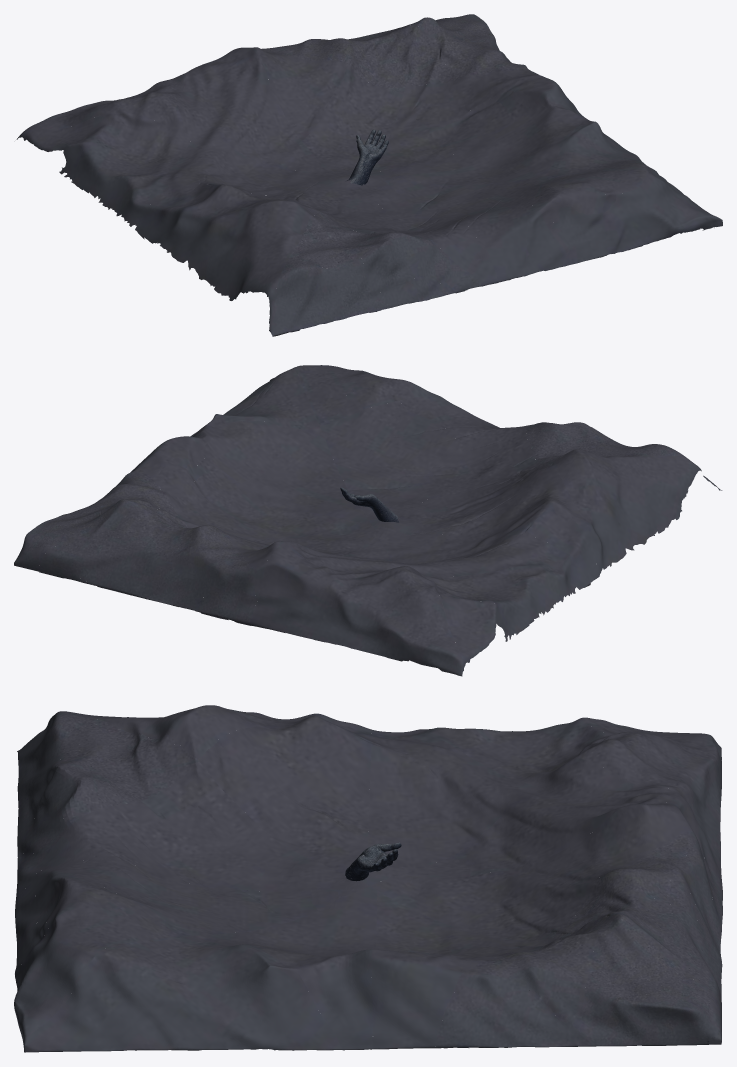
3 renders of one model, top to bottom at view 1: azimuth 30°, elevation 25°; view 2: azimuth 150°, elevation 25°; view 3: azimuth 270°, elevation 25°, orthographic. The views are drawn at different scales.
Parts seen in each view (by area): view 1: desert, hand; view 2: desert, hand; view 3: desert, hand.
Boxes of the visible parts, <box> form: desert: <box>16,14,722,336</box>; hand: <box>347,129,388,185</box>; desert: <box>14,365,722,676</box>; hand: <box>340,487,399,522</box>; desert: <box>14,705,722,1052</box>; hand: <box>345,842,401,881</box>.
Bounding box in the file's own units: 19.79 × 3.01 × 19.76.
Materials: 2 (2 with a texture image).
